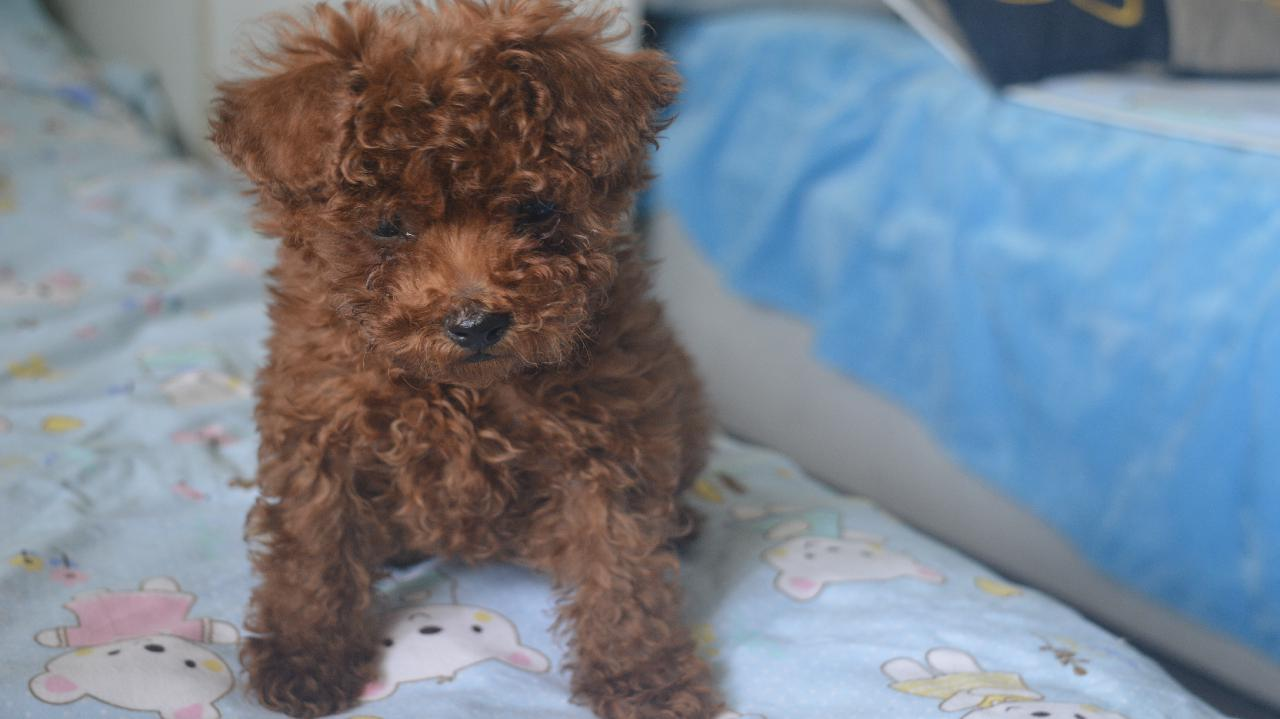coin: (220, 23, 747, 718)
